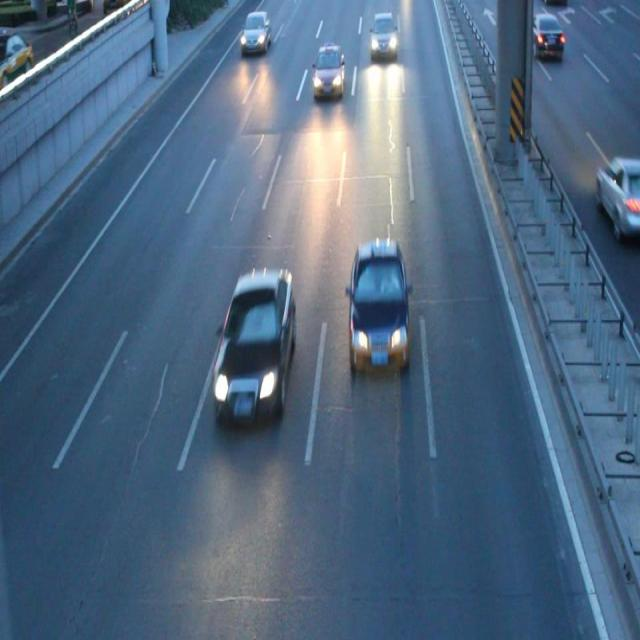car: (215, 262, 292, 434), (350, 236, 407, 376), (595, 150, 640, 242), (314, 45, 344, 98), (532, 12, 563, 62), (369, 14, 398, 58), (241, 11, 268, 55)
